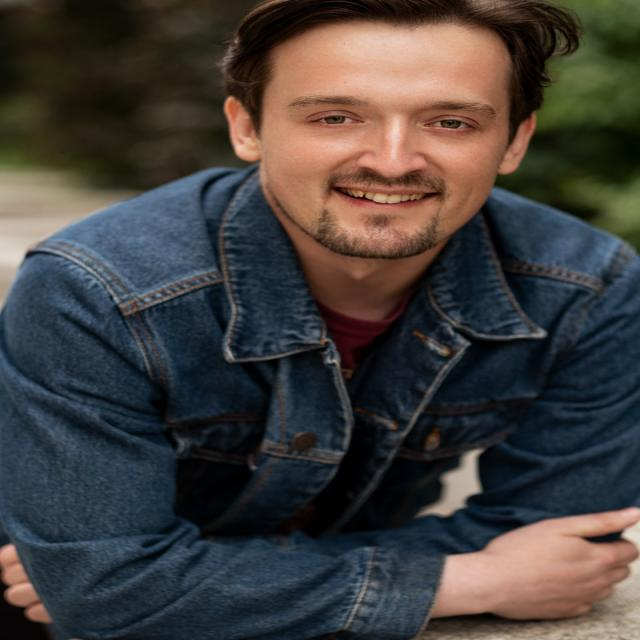nothing: (213, 0, 570, 108)
